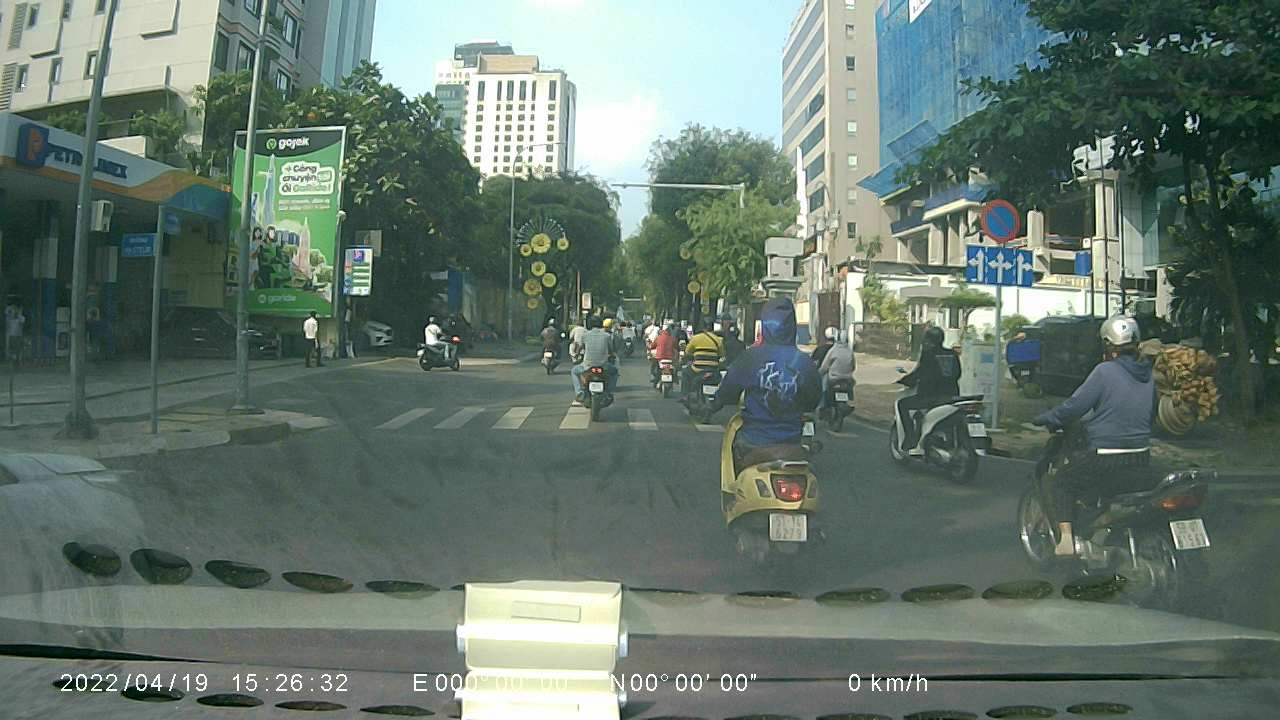Bien khac: (962, 237, 1039, 290)
Cam do xe: (978, 194, 1018, 244)
